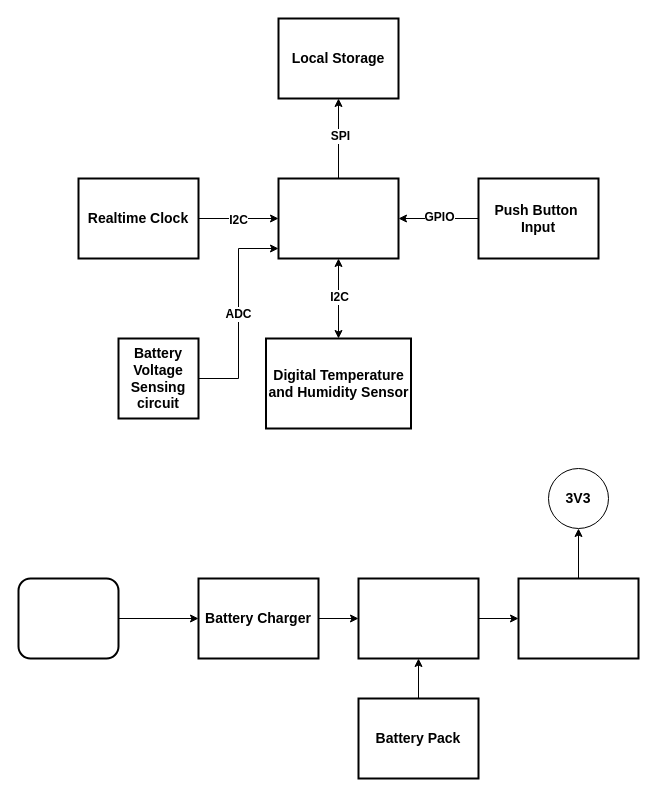
This 656x796 diagram has some shape labels left out. The centre of each missing label's shape, as x and y in pixels:
"BMS" belongs at [418,618].
"Microcontroller" belongs at [338,218].
"Voltage Regulator (3.3V)" belongs at [578,618].
"Water proof Charging Connector" belongs at [68,618].
